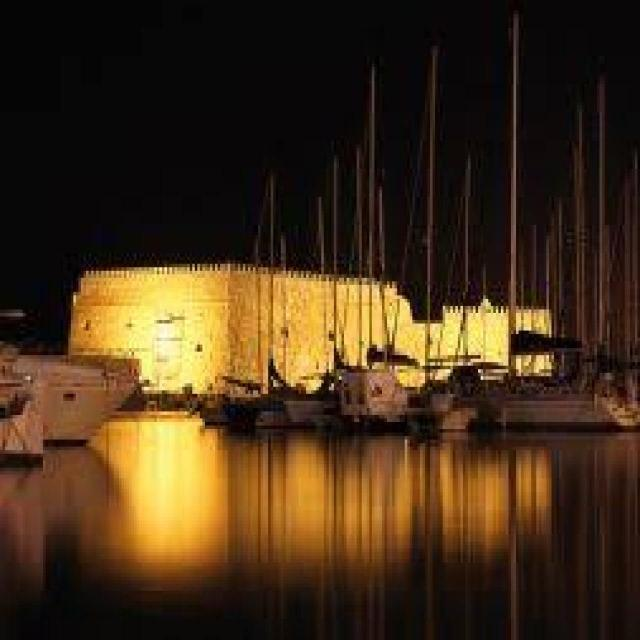Kules: (73, 240, 556, 398)
